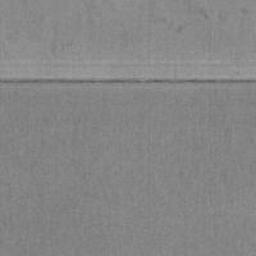Welding line: (0, 77, 256, 86)
